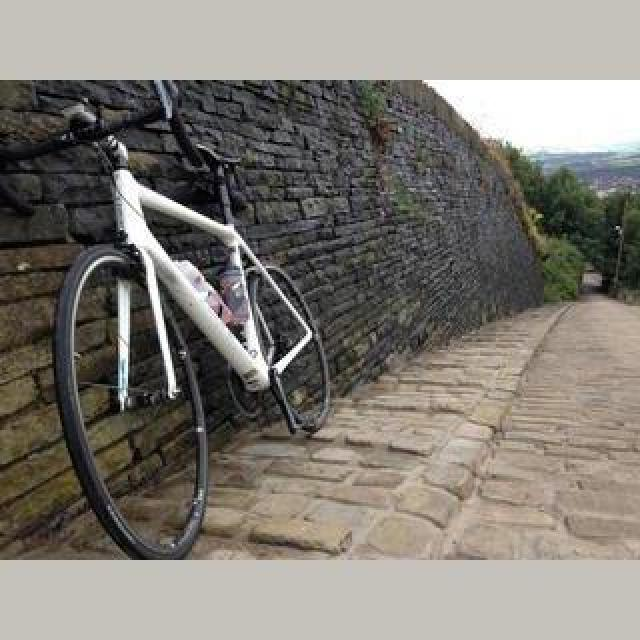Person: (31, 86, 353, 558)
